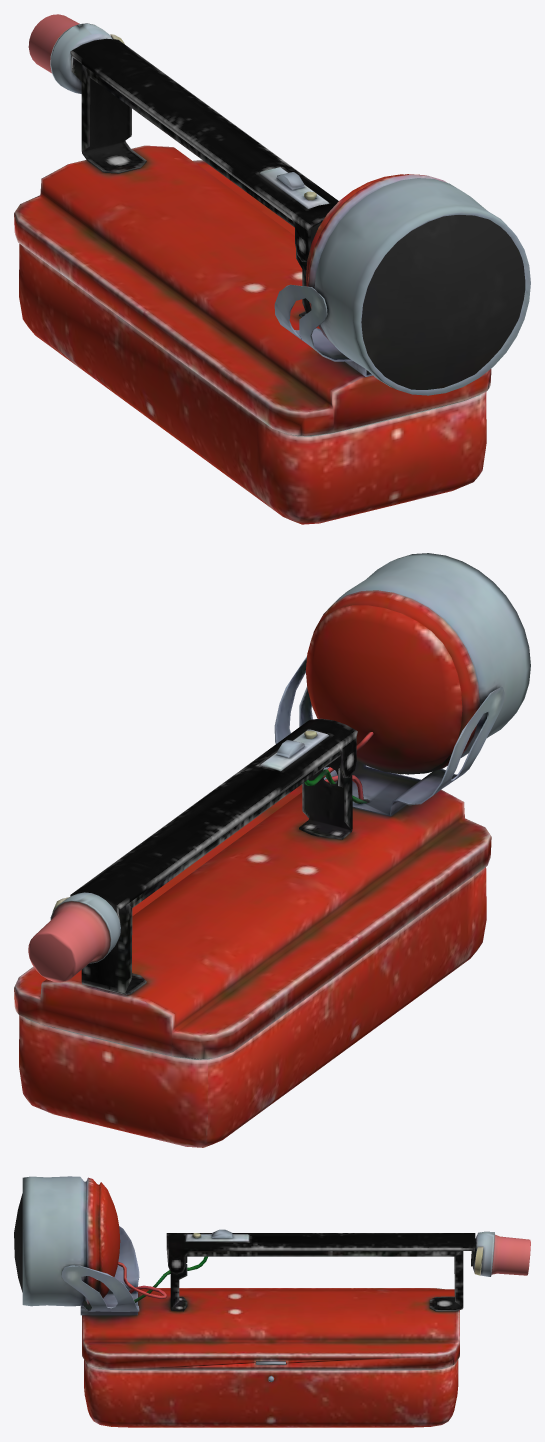
Rendered from vintage_flashlight.glb.
3 views of the same model, one above another, from view 1: azimuth 30°, elevation 25°; view 2: azimuth 150°, elevation 25°; view 3: azimuth 270°, elevation 25° (orthographic). The views are drawn at different scales.
Visible parts, largest first — view 1: vintage_flashlight; view 2: vintage_flashlight; view 3: vintage_flashlight.
Boxes of the visible parts, <box> form: vintage_flashlight: <box>14,14,530,524</box>; vintage_flashlight: <box>14,553,530,1147</box>; vintage_flashlight: <box>14,1176,530,1427</box>.
Bounding box in the file's own units: 0.0956 × 0.1443 × 0.3053.
Materials: 2 (2 with a texture image).
